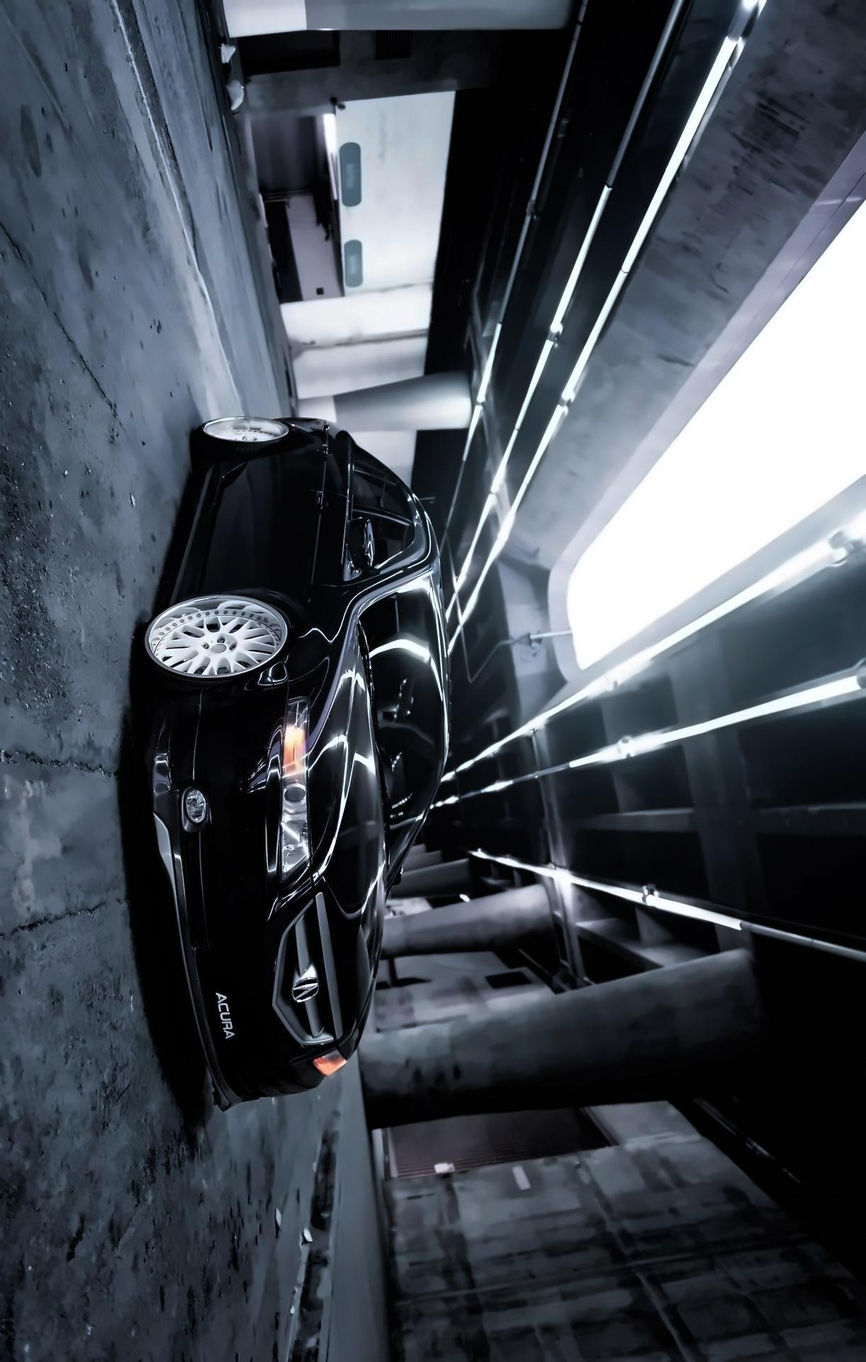Car hood: (306, 613, 392, 1064)
Driver-s door - -F-R-: (170, 494, 438, 587)
Fender - -F-R-: (173, 585, 363, 700)
Front bumper: (140, 668, 298, 1118)
Headlight - -L-: (301, 1043, 356, 1084)
Headlight - -R-: (268, 688, 320, 886)
Passenger-s door - -R-R-: (196, 430, 423, 493)
Side bumper - -R-: (153, 440, 224, 613)
Side mirror - -R-: (335, 510, 380, 592)
